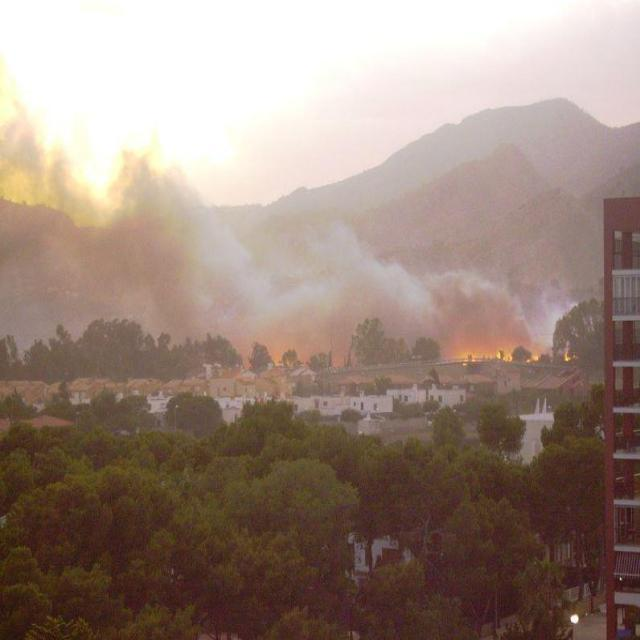Fire: (464, 349, 513, 362), (529, 348, 539, 363)
Smoke: (0, 103, 580, 354)
